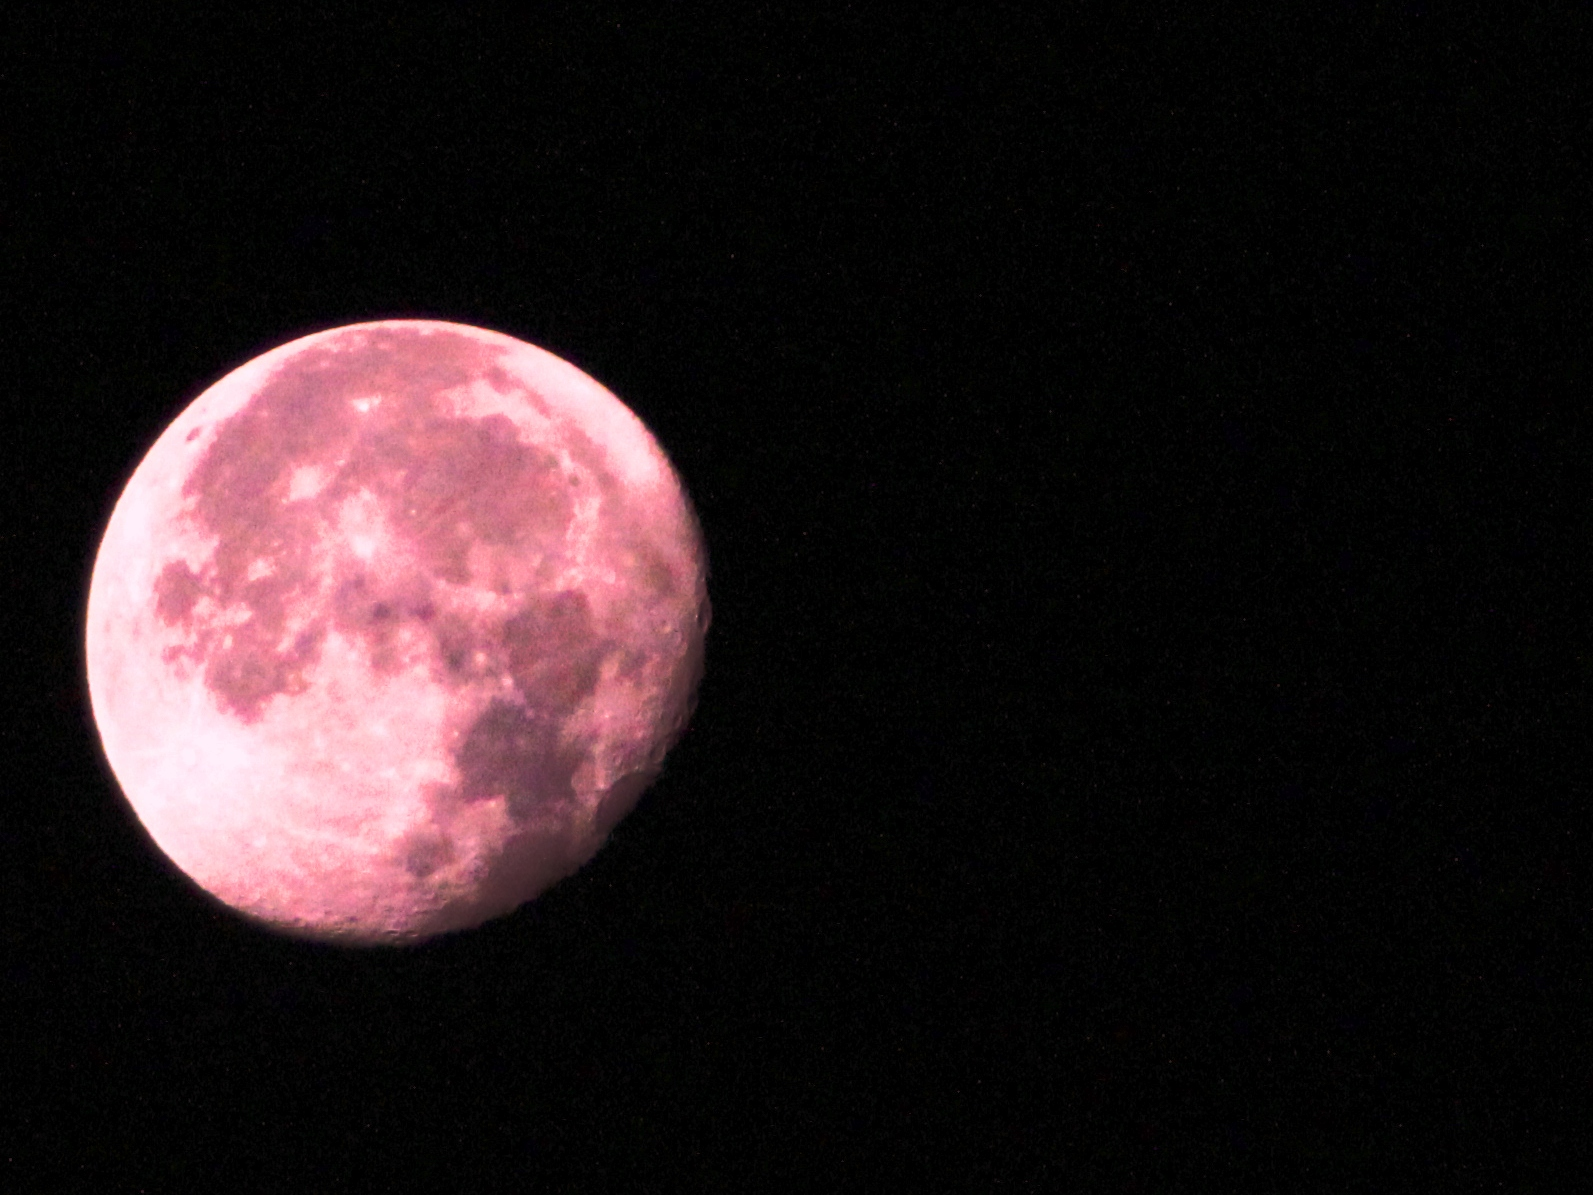crater: (318, 490, 414, 579), (690, 589, 717, 640), (182, 417, 216, 456), (559, 459, 590, 496), (638, 732, 668, 768), (217, 624, 242, 658), (480, 795, 503, 817)
